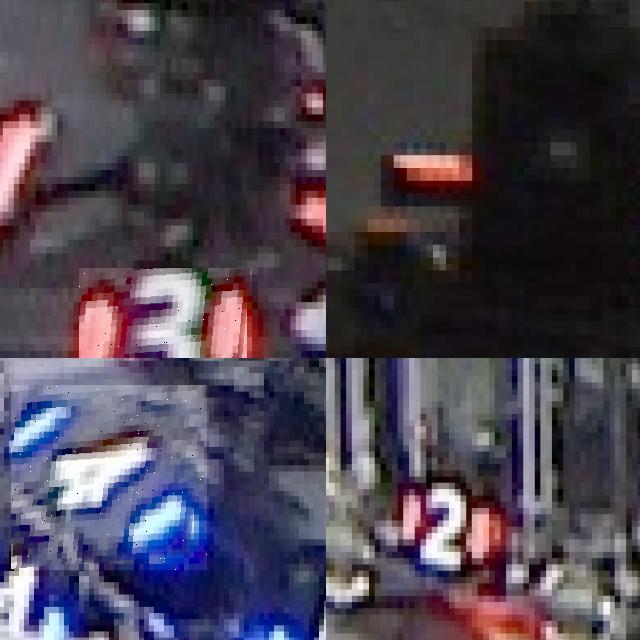B4: (11, 385, 207, 570), (0, 545, 66, 640), (244, 579, 326, 640)
R2: (380, 467, 495, 568)
R3: (78, 267, 252, 358)
